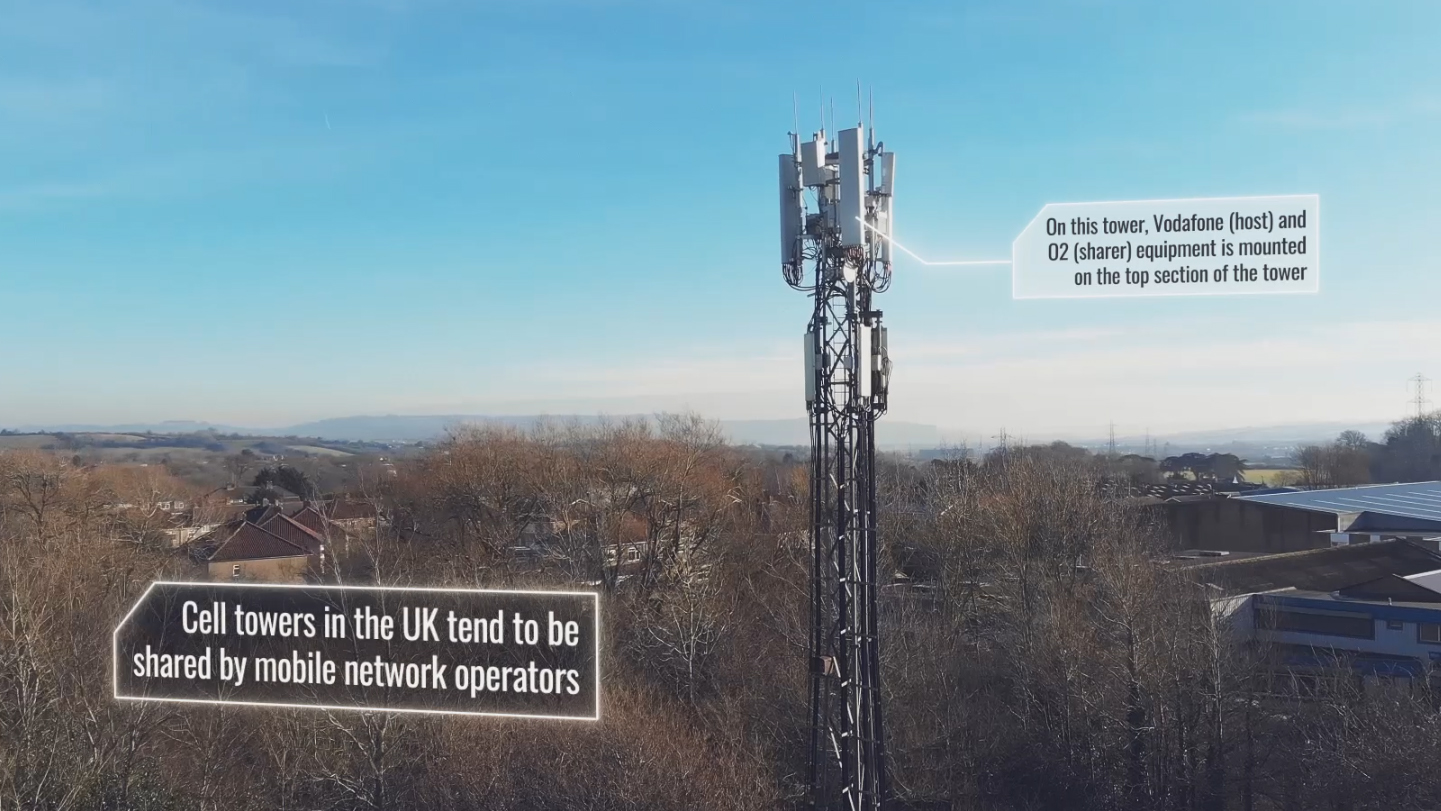sa: (830, 114, 874, 300), (769, 131, 817, 291)
